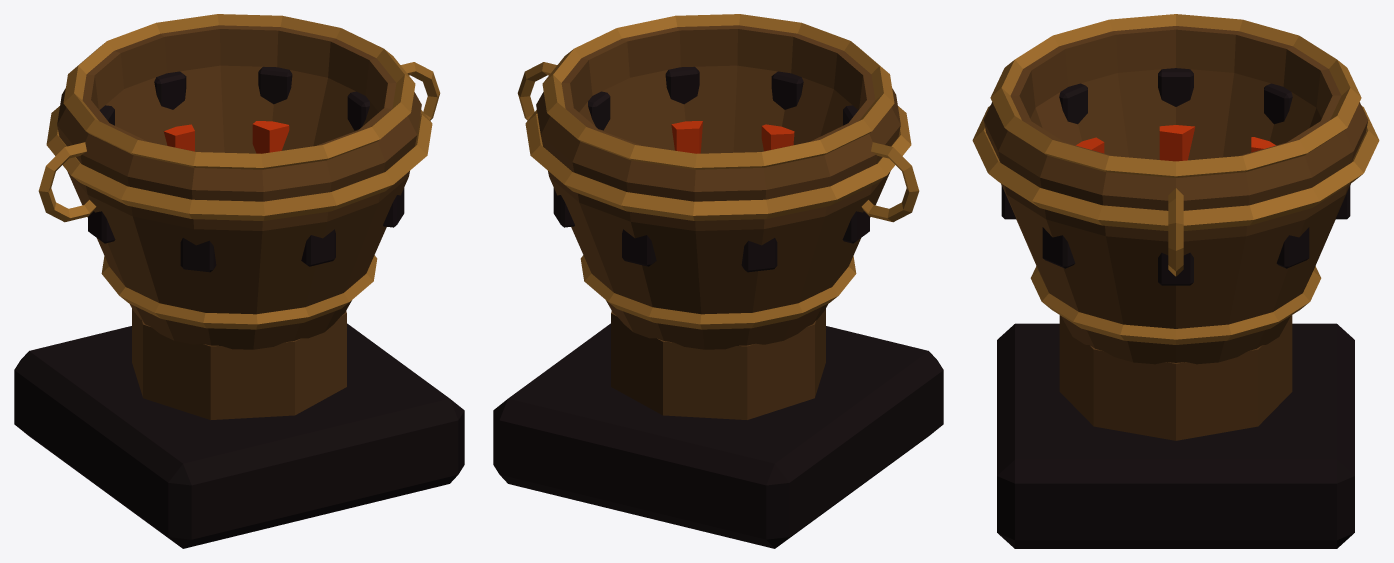
Rendered from BO_SM_Prop_InfernoCrucible_v001.glb.
The picture shows the model from 3 angles, left to right: view 1: azimuth 30°, elevation 25°; view 2: azimuth 150°, elevation 25°; view 3: azimuth 270°, elevation 25°; orthographic projection. The views are drawn at different scales.
Visible parts, largest first — view 1: SM_Prop_InfernoCrucible_LOD0; view 2: SM_Prop_InfernoCrucible_LOD0; view 3: SM_Prop_InfernoCrucible_LOD0.
Boxes of the visible parts, x1,y1,x2,y2 form: SM_Prop_InfernoCrucible_LOD0: (14,14,464,548); SM_Prop_InfernoCrucible_LOD0: (493,14,943,548); SM_Prop_InfernoCrucible_LOD0: (972,14,1379,548).
Size of what is drawn, in the model's own units: 1.08 by 0.97 by 0.91.
